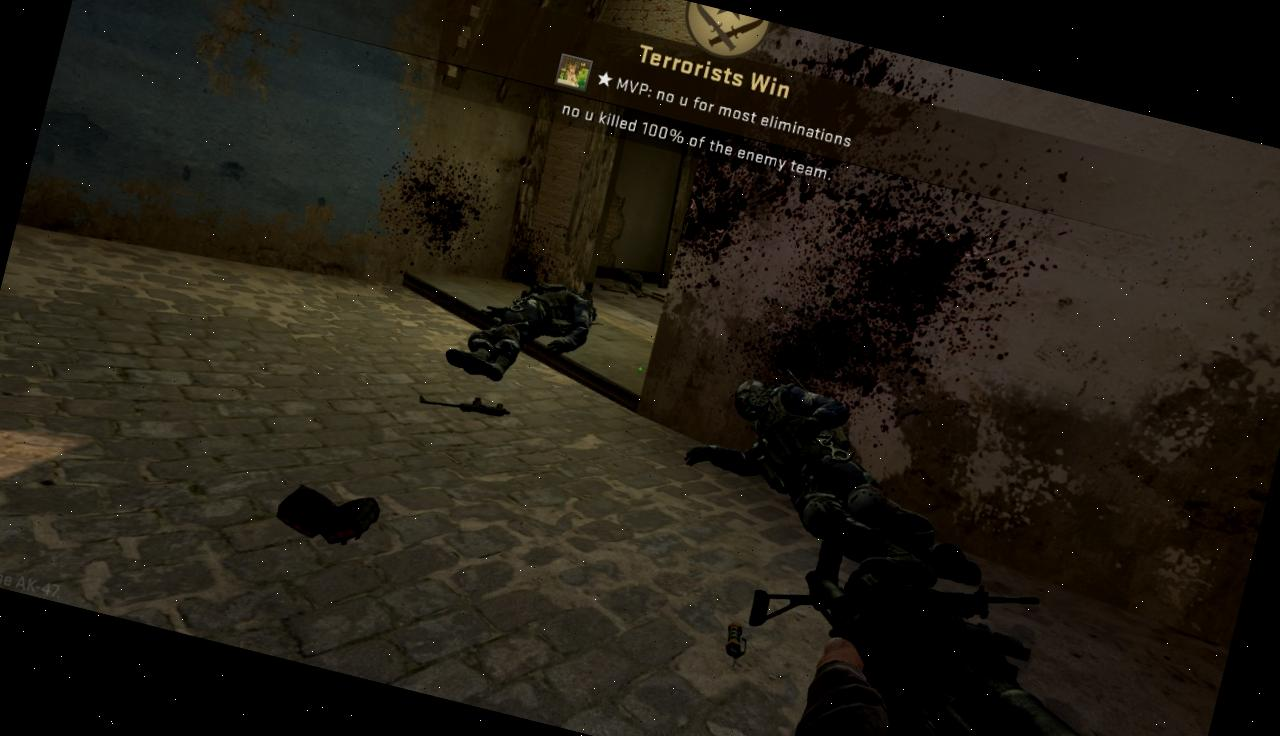rifle: (755, 536, 1232, 736)
